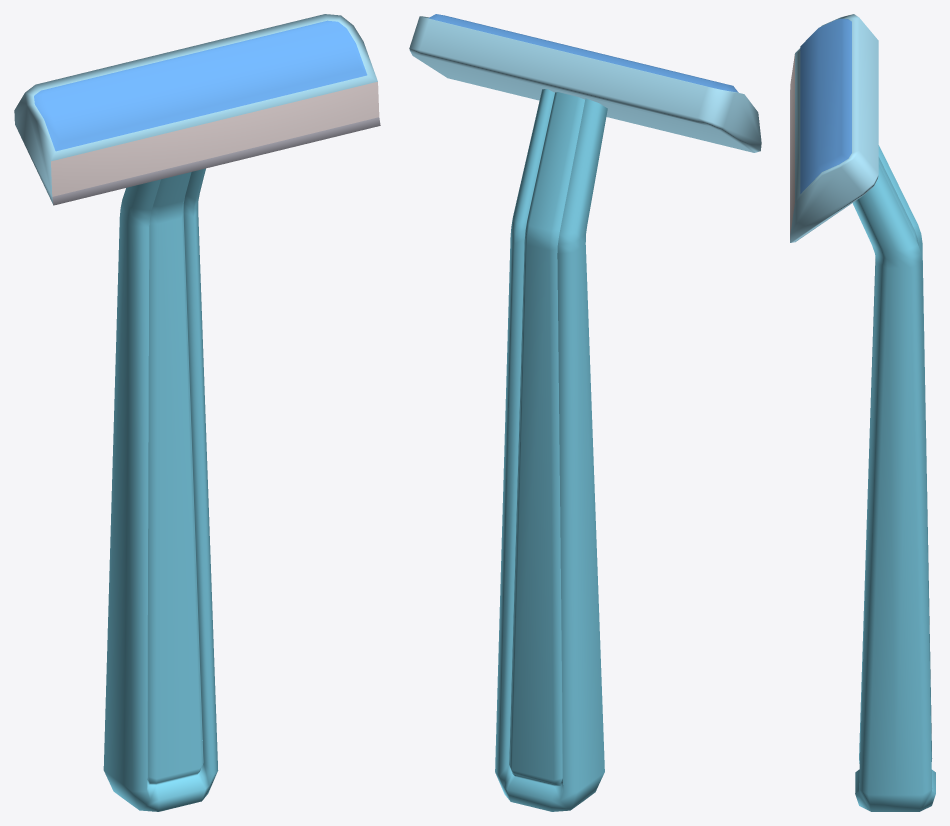
File: Razor_M.fbx
The picture shows the model from 3 angles, left to right: view 1: azimuth 30°, elevation 25°; view 2: azimuth 150°, elevation 25°; view 3: azimuth 270°, elevation 25°; orthographic projection. The views are drawn at different scales.
Visible parts, largest first — view 1: Razor_M; view 2: Razor_M; view 3: Razor_M.
Boxes of the visible parts, x1=… form: Razor_M: x1=14, y1=14, x2=380, y2=811; Razor_M: x1=409, y1=14, x2=761, y2=811; Razor_M: x1=790, y1=14, x2=935, y2=811.
Size of the model in its own units: 51.76 by 116 by 21.21.
1 material, 1 textured.
